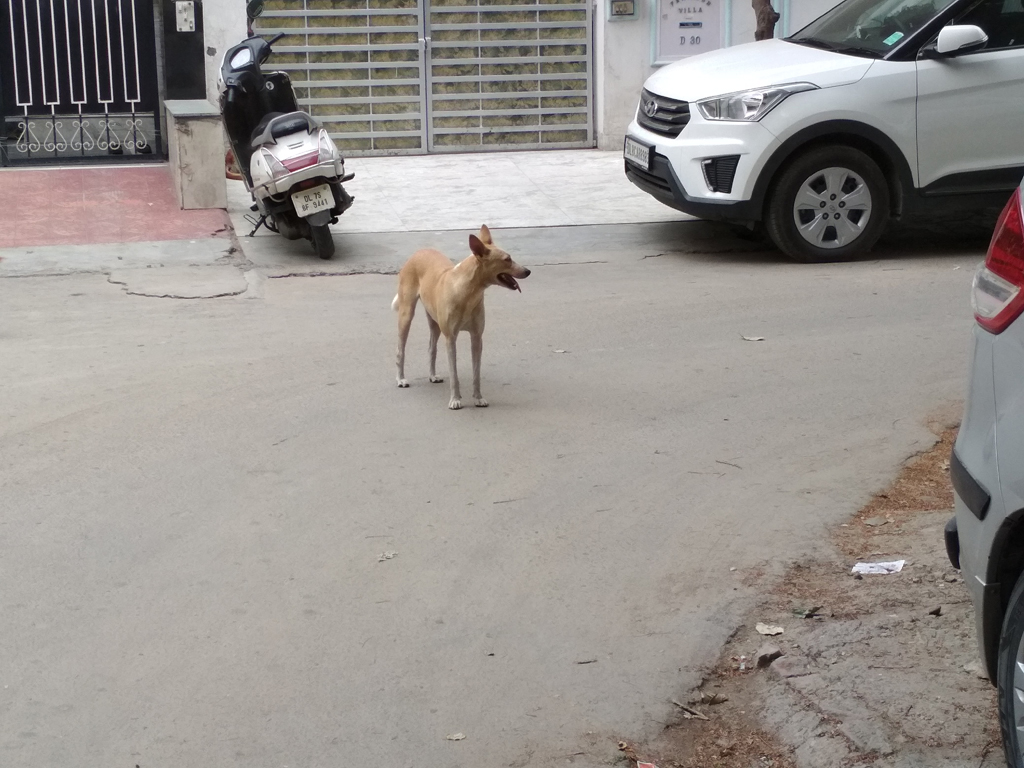dog: (391, 226, 528, 409)
